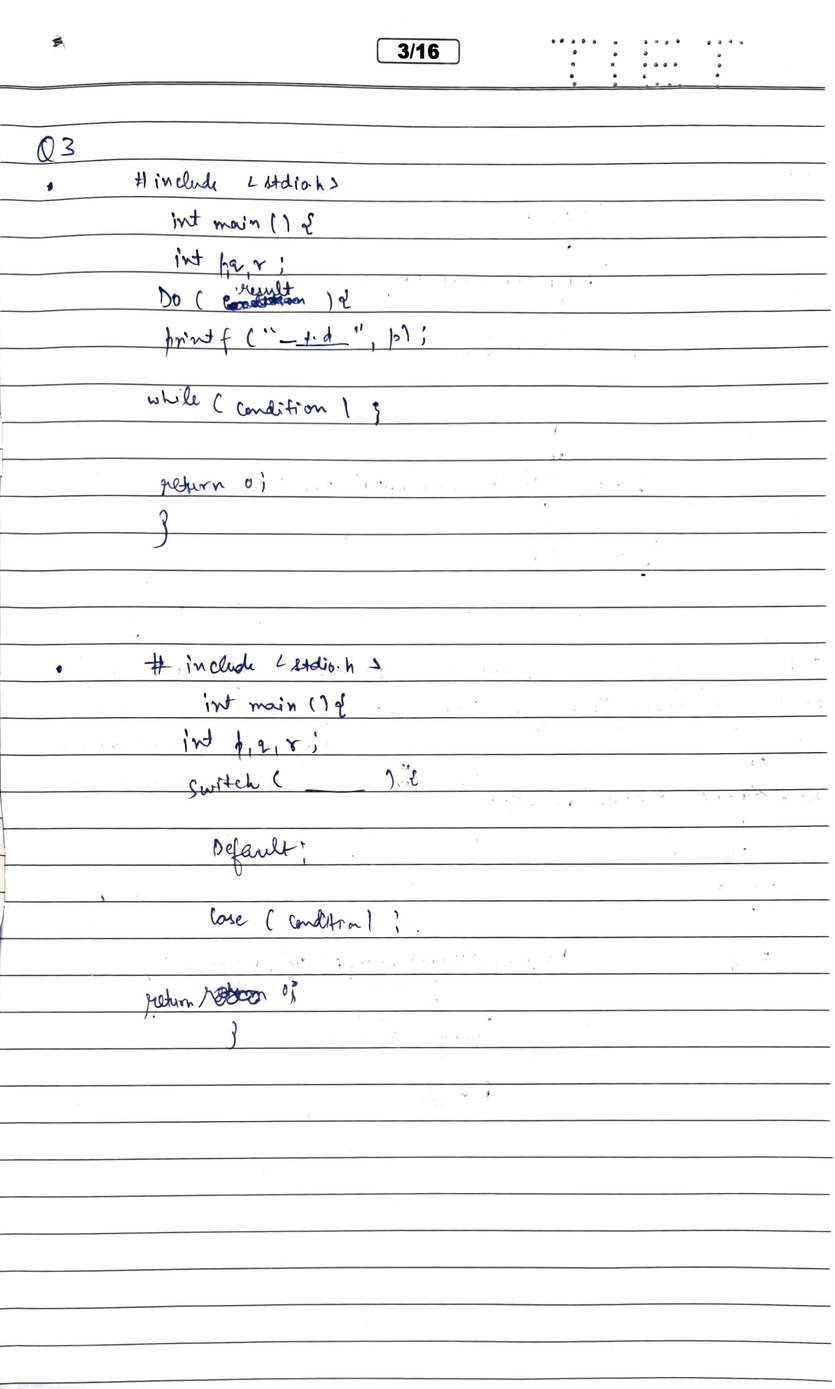cuttings: (197, 981, 268, 1009), (222, 294, 306, 311)
